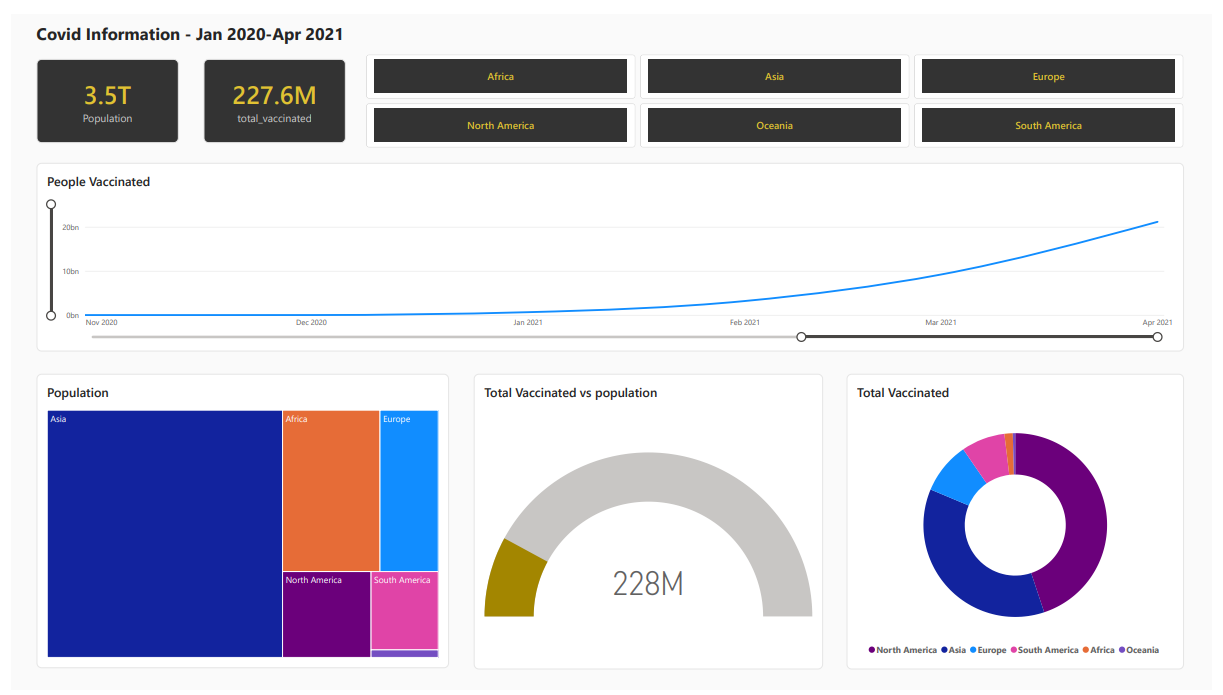

What the dashboard file says about the page in this screenshot:
{"tool":"powerbi","page":{"name":"Populatio & Vaccination","canvas":[1920,1080],"ordinal":3},"visuals":[{"type":"lineChart","title":"People Vaccinated","fields":{"Category":["public percentpopulationvaccinated.Start of Month"],"Y":["Sum(public percentpopulationvaccinated.rolling_people_vaccinated)"]},"box":[40.6,238,1834.8,301.5],"z":0},{"type":"advancedSlicerVisual","fields":{"Values":["public percentpopulationvaccinated.continent"]},"box":[567.9,64.9,1307.5,148.7],"z":1000},{"type":"treemap","title":"Population","fields":{"Group":["public percentpopulationvaccinated.continent"],"Values":["Sum(public percentpopulationvaccinated.population)"]},"box":[40.6,574.6,659.8,470.5],"z":2000},{"type":"card","fields":{"Values":["Sum(public percentpopulationvaccinated.population)"]},"box":[40.6,71.7,227.2,133.9],"z":3000},{"type":"card","fields":{"Values":["public percentpopulationvaccinated.total_vaccinated"]},"box":[308.3,71.7,227.2,133.9],"z":4000},{"type":"gauge","title":"Total Vaccinated vs population","fields":{"Y":["public percentpopulationvaccinated.total_vaccinated"],"MaxValue":["Max(public percentpopulationvaccinated.population)"]},"box":[739.6,574.6,558.4,471.9],"z":5000},{"type":"donutChart","title":"Total Vaccinated","fields":{"Y":["public percentpopulationvaccinated.total_vaccinated"],"Category":["public percentpopulationvaccinated.continent"]},"box":[1335.9,574.6,539.5,471.9],"z":5001},{"type":"textbox","box":[40.6,12.2,678.8,39.2],"z":5002}]}

Visuals, with their boxes in screenshot pixels (x1, y1, x2, y2), scaled from the page's 1920x1080 canvas onto the 1223x695 screenshot:
"People Vaccinated" lineChart: crop(26, 153, 1195, 347)
advancedSlicerVisual - public percentpopulationvaccinated.continent: crop(362, 42, 1195, 137)
"Population" treemap: crop(26, 370, 446, 673)
card - Sum(public percentpopulationvaccinated.population): crop(26, 46, 171, 132)
card - public percentpopulationvaccinated.total_vaccinated: crop(196, 46, 341, 132)
"Total Vaccinated vs population" gauge: crop(471, 370, 827, 673)
"Total Vaccinated" donutChart: crop(851, 370, 1195, 673)
textbox: crop(26, 8, 458, 33)
